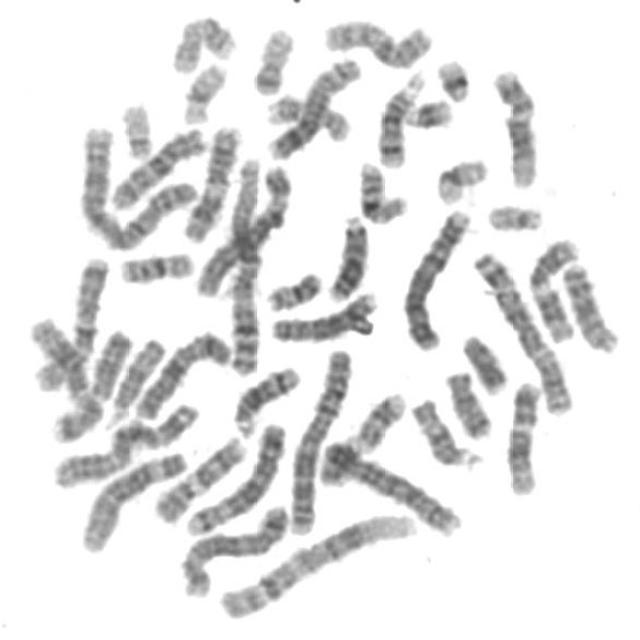A1: (209, 504, 420, 622), (221, 150, 266, 378)
A2: (71, 118, 203, 252), (282, 341, 356, 538)
A3: (466, 242, 577, 416), (45, 394, 199, 491)
B4: (314, 432, 465, 539), (395, 200, 474, 354)
B5: (178, 413, 290, 537), (174, 496, 292, 599)
C10: (105, 120, 209, 212), (316, 10, 436, 70)
C11: (177, 116, 245, 245), (522, 230, 584, 344)
C12: (486, 60, 542, 189), (499, 373, 545, 497)
C6: (187, 155, 297, 299), (74, 442, 190, 555)
C7: (26, 248, 113, 393), (16, 311, 105, 442)
C8: (260, 50, 364, 162), (262, 282, 380, 344)
C9: (146, 427, 250, 526), (314, 385, 411, 486)
D13: (557, 254, 622, 356), (321, 206, 372, 303)
D14: (370, 64, 428, 170), (227, 358, 303, 437)
D15: (404, 388, 484, 472), (100, 329, 168, 423)
E16: (350, 153, 410, 226), (113, 243, 197, 286)
E17: (257, 87, 353, 144), (163, 5, 239, 76)
E18: (438, 362, 496, 441), (83, 321, 135, 402)
F19: (174, 54, 231, 126), (429, 150, 491, 207)
F20: (245, 19, 298, 96), (259, 262, 325, 314)
G21: (429, 50, 475, 104), (397, 90, 456, 130)
G22: (112, 93, 158, 162), (479, 195, 547, 234)
X: (129, 323, 234, 422)
Y: (454, 326, 511, 396)
